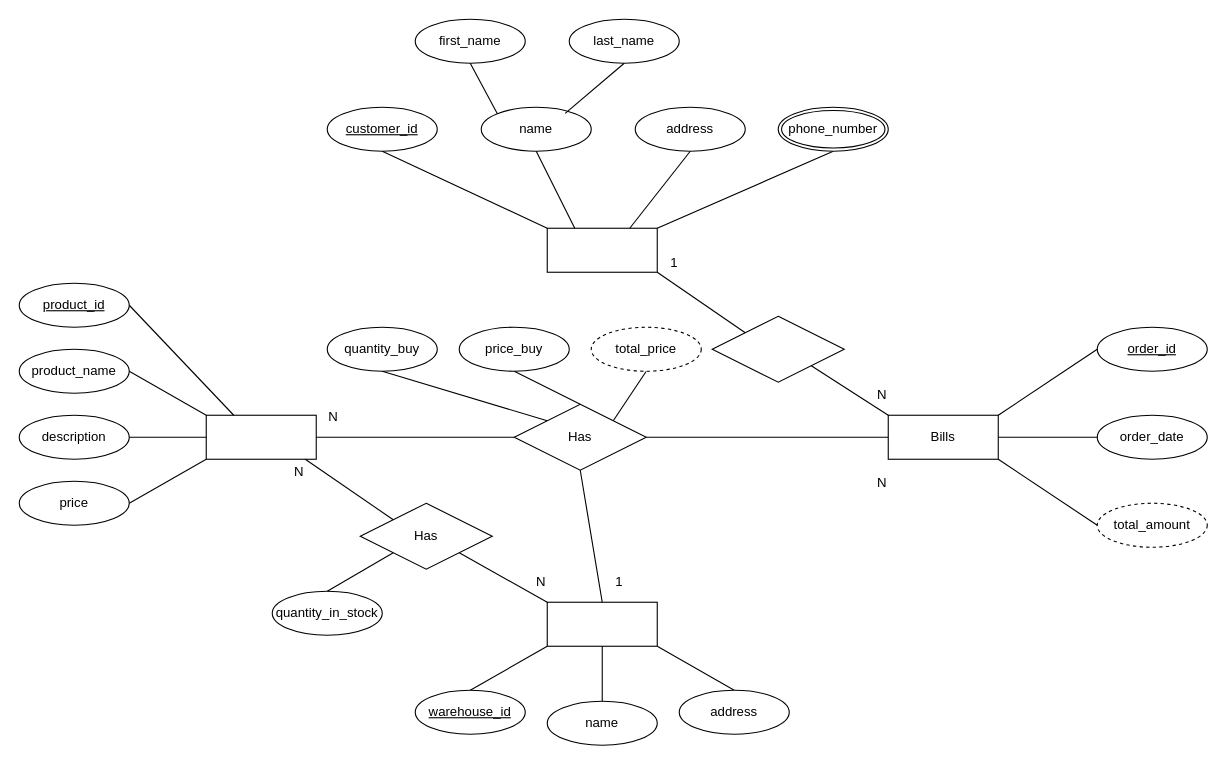
Some shapes in this 1227 by 765 pixel diagram are drawn without their labels. The centre of each missing label's shape, as x and y in pixels:
"Buy" goes at (x=777, y=348).
"Customers" goes at (x=601, y=249).
"Products" goes at (x=260, y=436).
"Warehouse" goes at (x=601, y=623).
